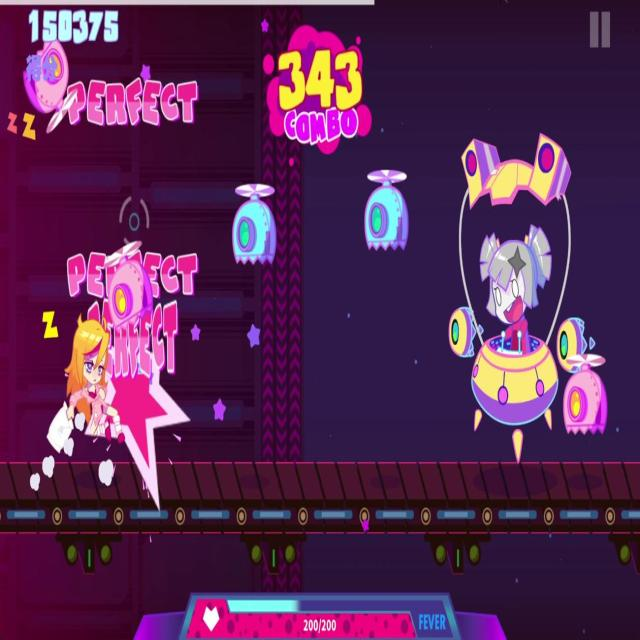jiqiqiu: (22, 34, 80, 136), (360, 158, 416, 257), (228, 179, 281, 265), (564, 350, 611, 444)
qiangboss: (446, 122, 592, 450)
